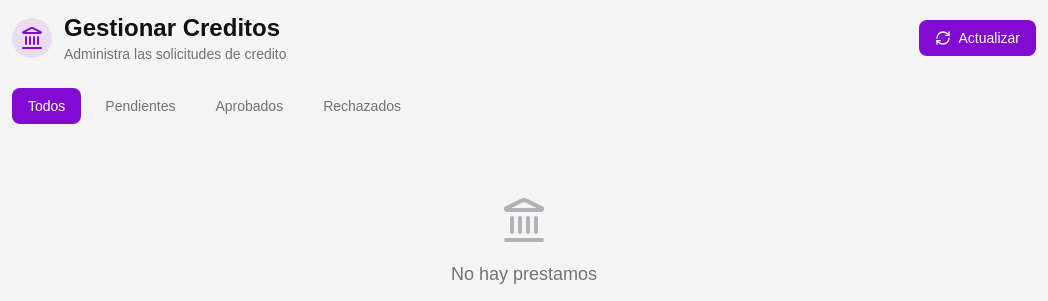
Test case: AdminLoansClient › should show the empty state with filter text
Check: the text "No hay prestamos" is shown, box [451, 264, 597, 284]
Click the button "Rechazados".
click(362, 106)  # box [307, 88, 417, 124]
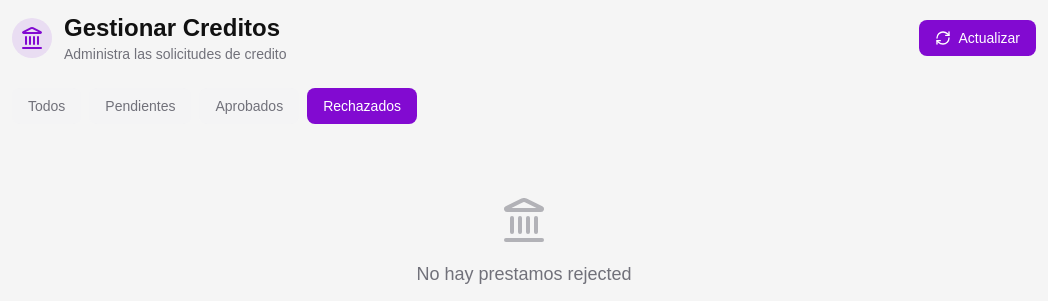
Check: the text "No hay prestamos rejected" is shown, box [416, 264, 632, 284]
